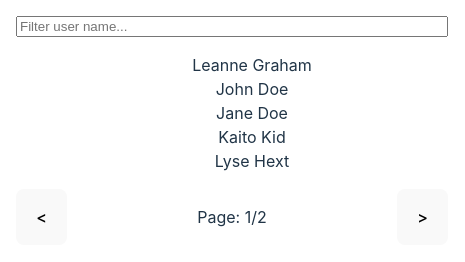
UserList component test › should render paginated list of user names
The width and height of the screenshot is (465, 262).
Check: the text "Page: 1/2" is shown, box [197,204,267,228]
Check: the list item "Leanne Graham" is shown, box [192,54,312,74]
Click the button ">": [422, 216] box [397,188,448,244]
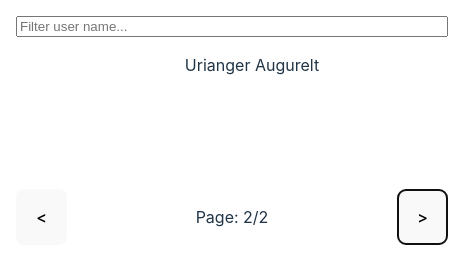
Check: the text "Page: 2/2" is shown, box [196,204,268,228]
Check: the list item "Urianger Augurelt" is shown, box [185,54,319,74]
Click the button "<": [42, 216] box [16,188,67,244]
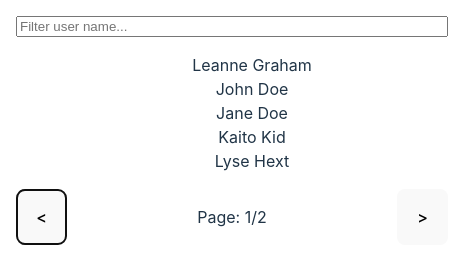
Check: the text "Page: 1/2" is shown, box [197,204,267,228]
Check: the list item "Leanne Graham" is shown, box [192,54,312,74]
Check: the list item "John Doe" is shown, box [216,78,288,98]
